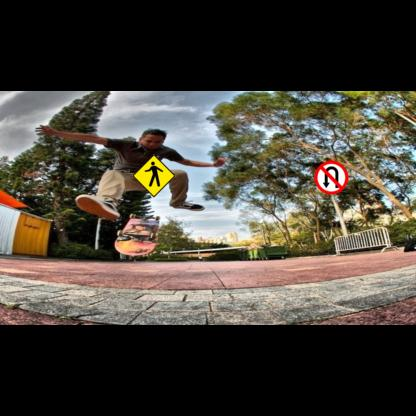A-32a: (132, 154, 175, 197)
R-5a: (314, 160, 348, 194)
